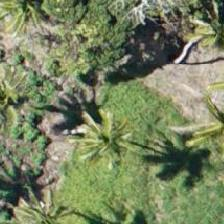coconut_tree: (72, 92, 162, 182), (0, 49, 51, 139), (0, 171, 83, 223), (160, 0, 223, 68), (0, 0, 79, 45)
